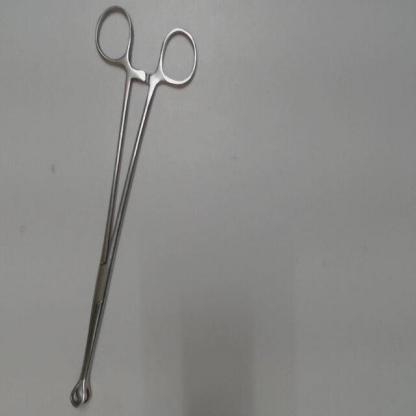8 Babcock Tissue Forceps: (66, 1, 206, 413)
